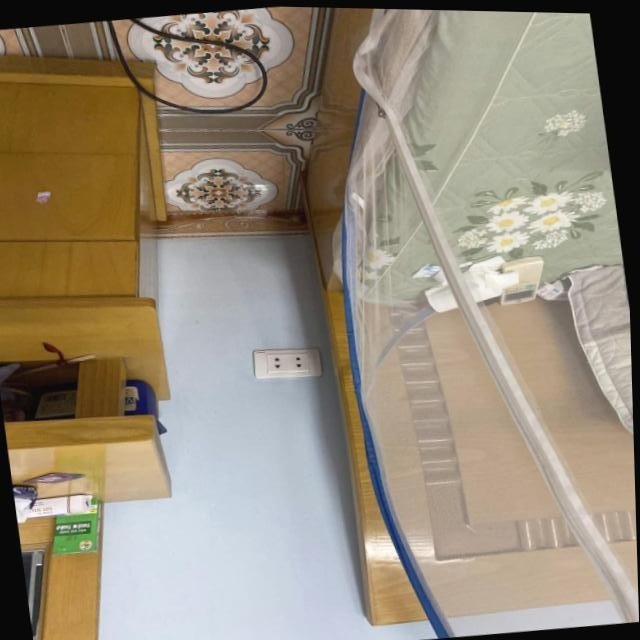outlet: (250, 344, 324, 384)
